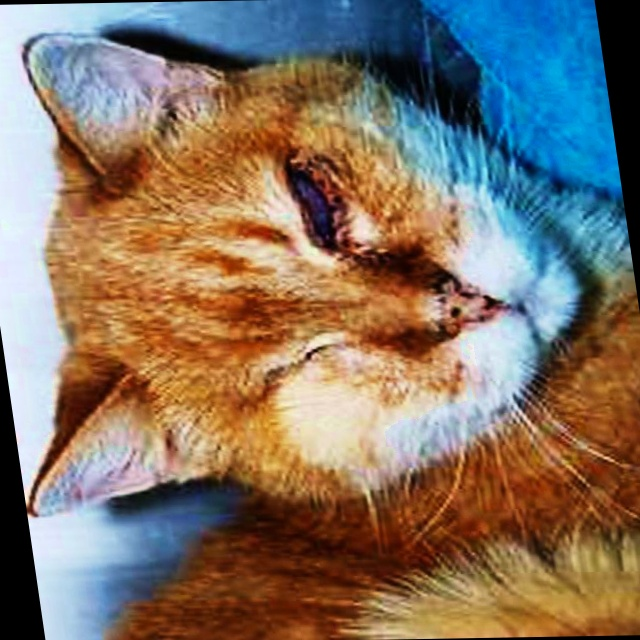eye_infection: (294, 160, 351, 241)
